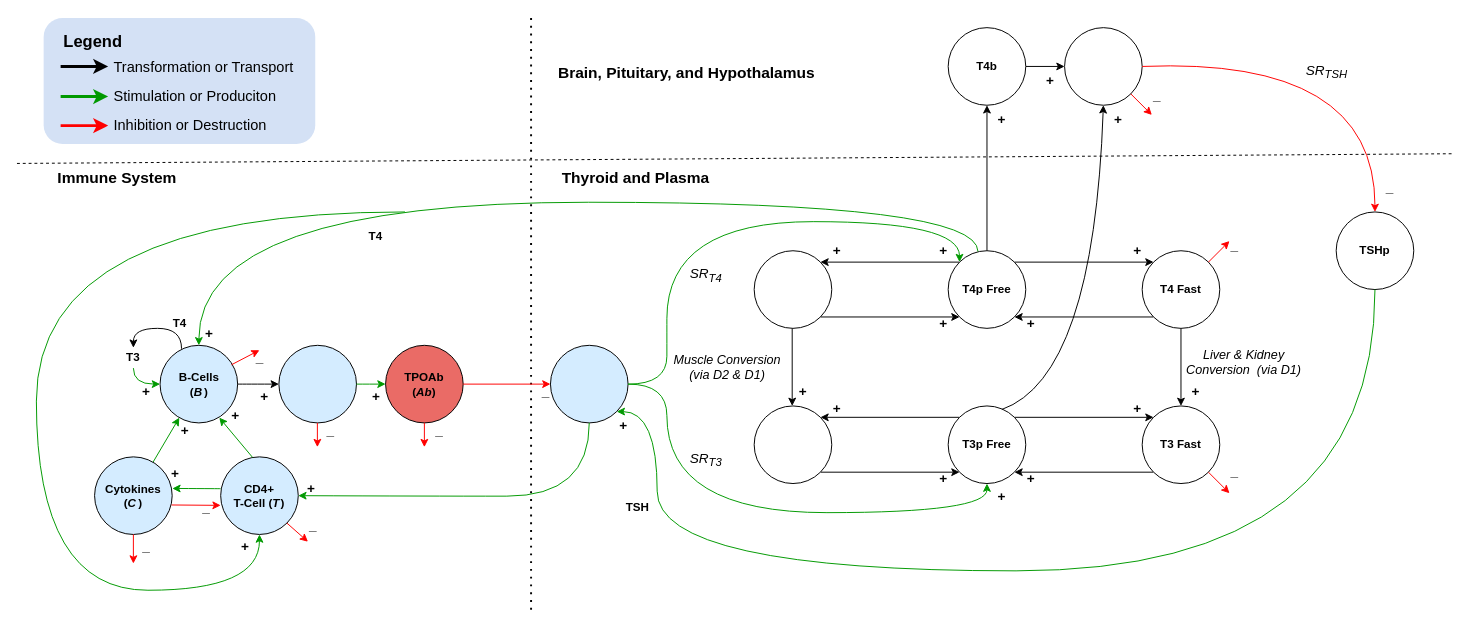
Image size: 1471x628. Some labels were removed from this diagram. The centre of each missing label's shape, as x and y in pixels:
"Functional Thyroid Size ( FTS )" belongs at (589,383).
"Plasma Cells ( P )" belongs at (317,383).
"T3 Slow" belongs at (792,444).
"T3b" belongs at (1103,66).
"T4 Slow" belongs at (792,289).
